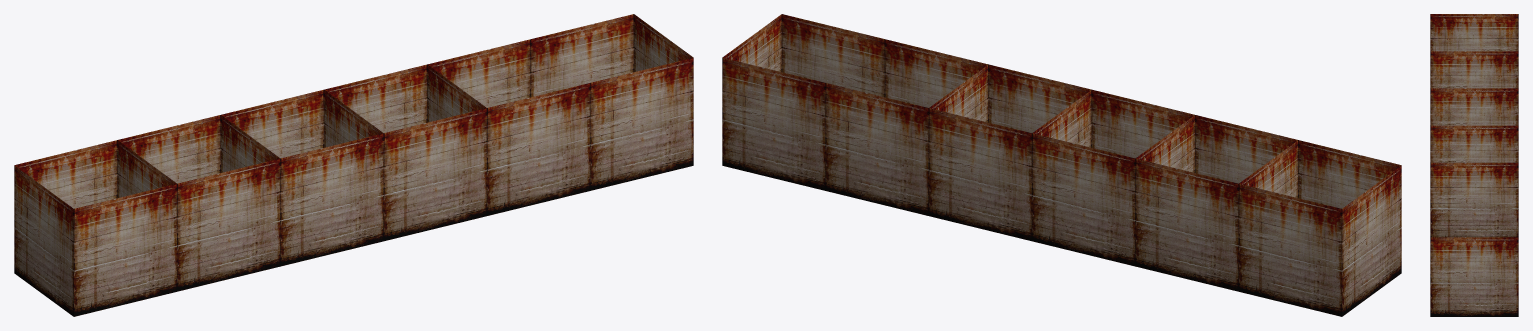
Rendered from wallParts.FBX.
3 views of the same model, side by side, from view 1: azimuth 30°, elevation 25°; view 2: azimuth 150°, elevation 25°; view 3: azimuth 270°, elevation 25° (orthographic). The views are drawn at different scales.
Visible parts, largest first — view 1: 6sec, 4sec, Single, Double, 3sec; view 2: 6sec, Single, 4sec, 3sec, Double; view 3: 6sec, 4sec, Single, 3sec, Double.
Boxes of the visible parts, bbox=[...] form: 6sec: bbox=[16, 14, 693, 316]; 4sec: bbox=[17, 64, 486, 315]; Single: bbox=[14, 140, 177, 316]; Double: bbox=[21, 115, 280, 314]; 3sec: bbox=[20, 90, 383, 314]; 6sec: bbox=[722, 14, 1401, 315]; Single: bbox=[1239, 140, 1401, 316]; 4sec: bbox=[929, 64, 1399, 315]; 3sec: bbox=[1032, 90, 1396, 314]; Double: bbox=[1135, 115, 1396, 314]; 6sec: bbox=[1430, 14, 1518, 316]; 4sec: bbox=[1430, 162, 1518, 237]; Single: bbox=[1430, 14, 1518, 88]; 3sec: bbox=[1430, 125, 1518, 162]; Double: bbox=[1430, 88, 1518, 125].
Bounding box in the file's own units: 4572 × 762 × 762.
Materials: 1 (1 with a texture image).
